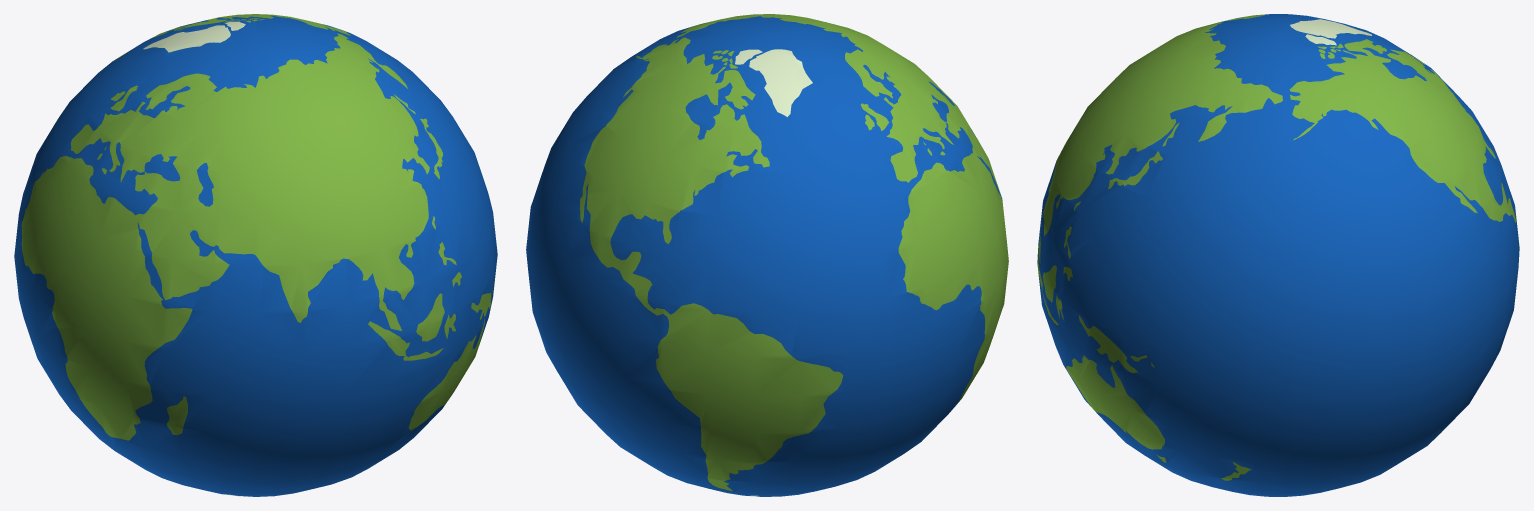
The model's file is globe_showing_asia_australia.glb.
3 views of the same model, side by side, from view 1: azimuth 30°, elevation 25°; view 2: azimuth 150°, elevation 25°; view 3: azimuth 270°, elevation 25° (orthographic).
Parts seen in each view (by area): view 1: Sphere.394; view 2: Sphere.394; view 3: Sphere.394.
Part boxes in pixels (bbox=[...]): Sphere.394: bbox=[14, 14, 497, 496]; Sphere.394: bbox=[526, 14, 1008, 496]; Sphere.394: bbox=[1037, 14, 1519, 496].
Bounding box in the file's own units: 1.99 × 2 × 1.99.
Materials: 1 (1 with a texture image).
